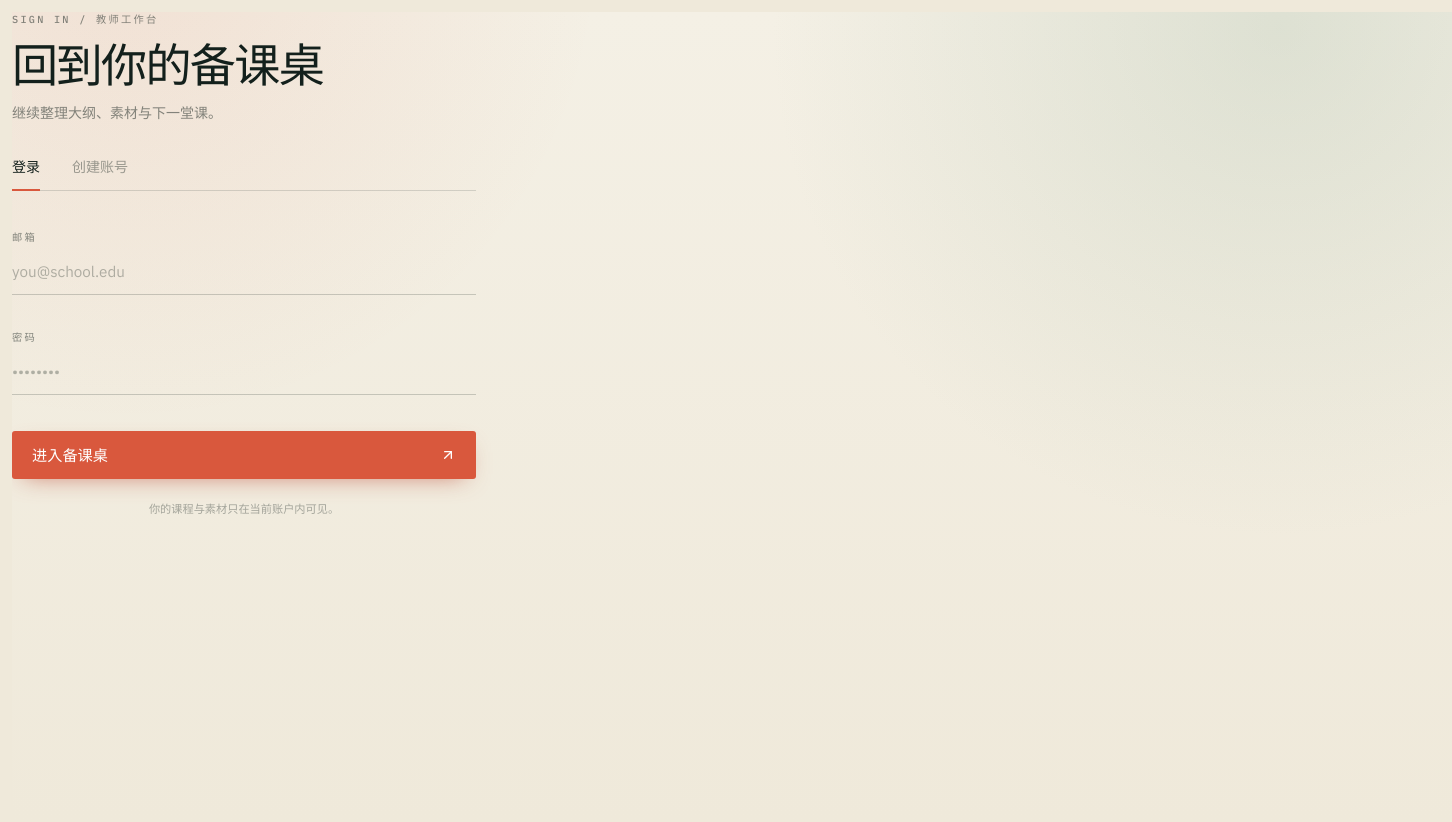
Scenario: LoginForm › enforces the registration password policy
The image size is (1452, 822).
Click the tab "创建账号" at (100, 174), box x1=72 y1=157 x2=128 y2=191
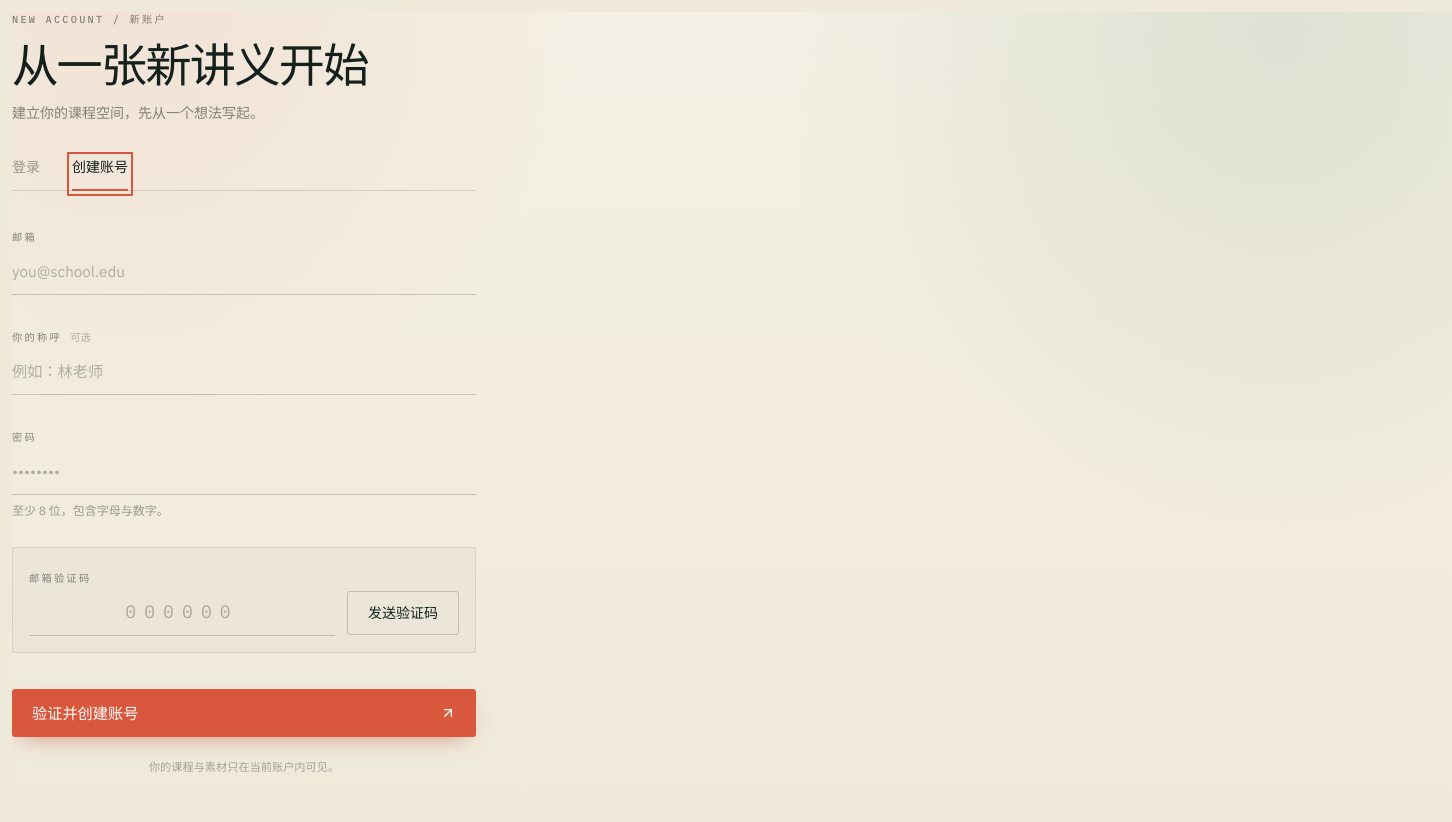
Type "teacher@example.com" into the field labelled "邮箱" at (244, 271), box x1=12 y1=247 x2=476 y2=295
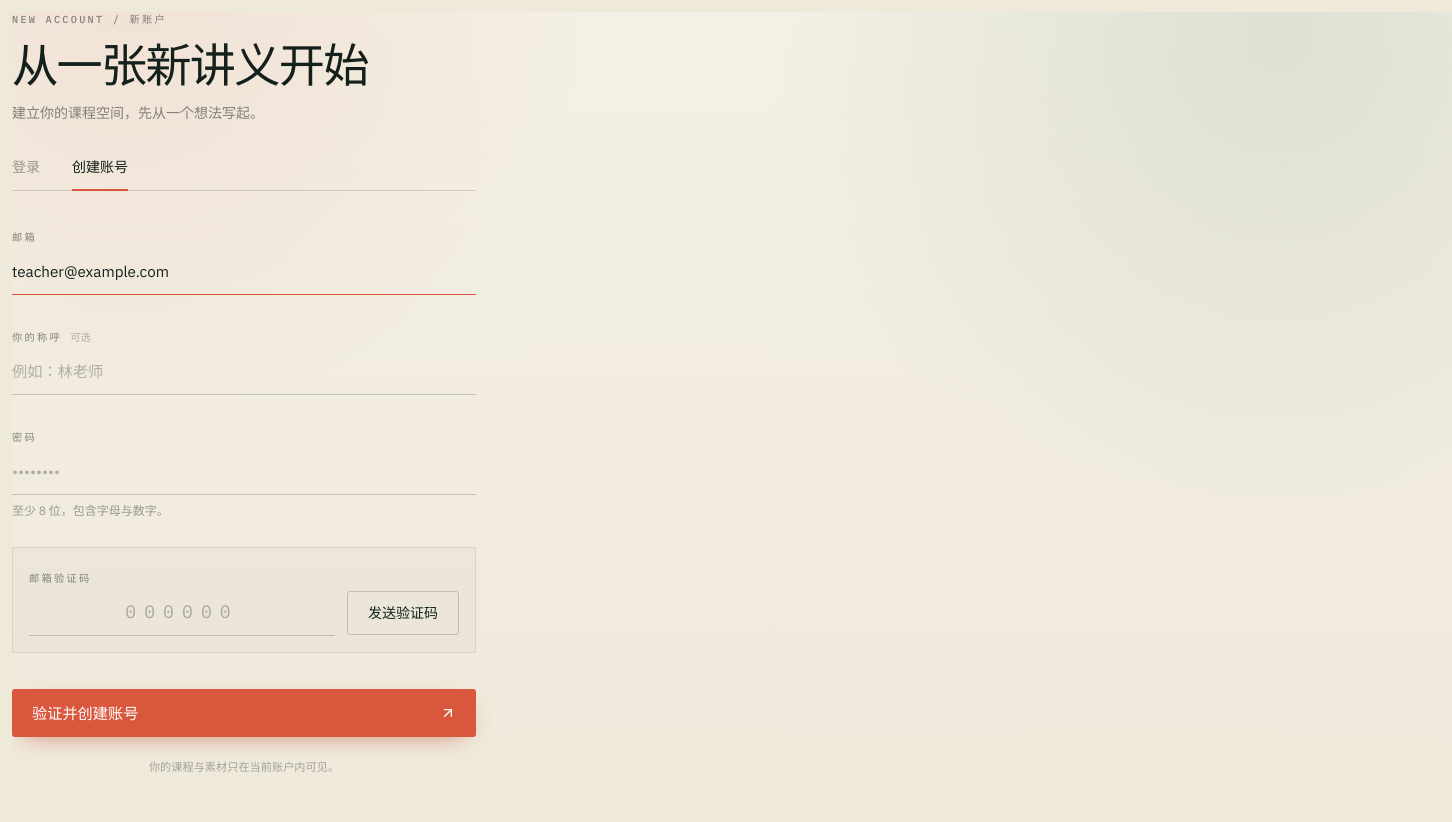
Type "onlyletters" into the password field labelled "密码" at (244, 471), box x1=12 y1=447 x2=476 y2=495
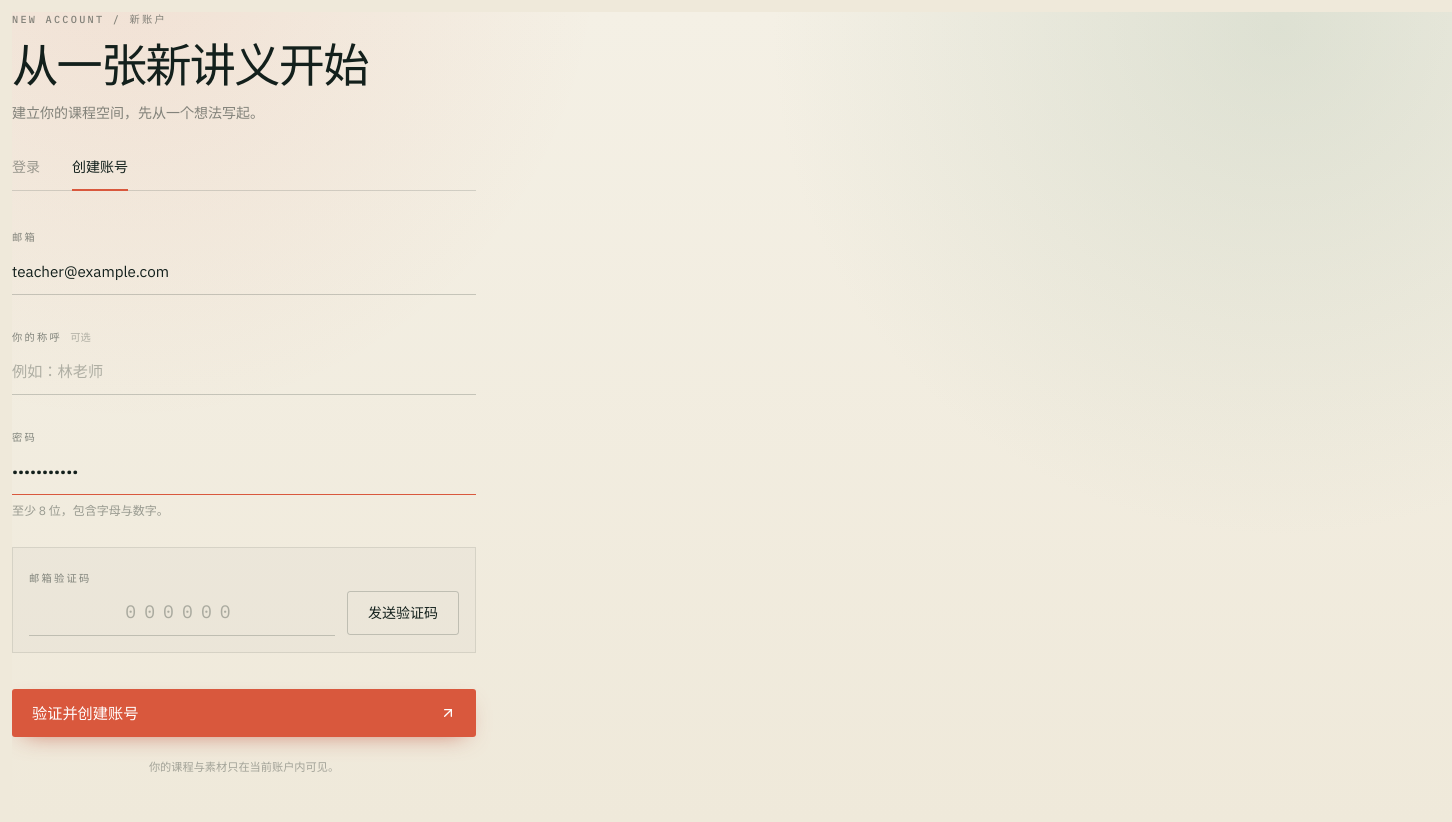
Click the button "验证并创建账号" at (85, 713), box x1=12 y1=689 x2=476 y2=737
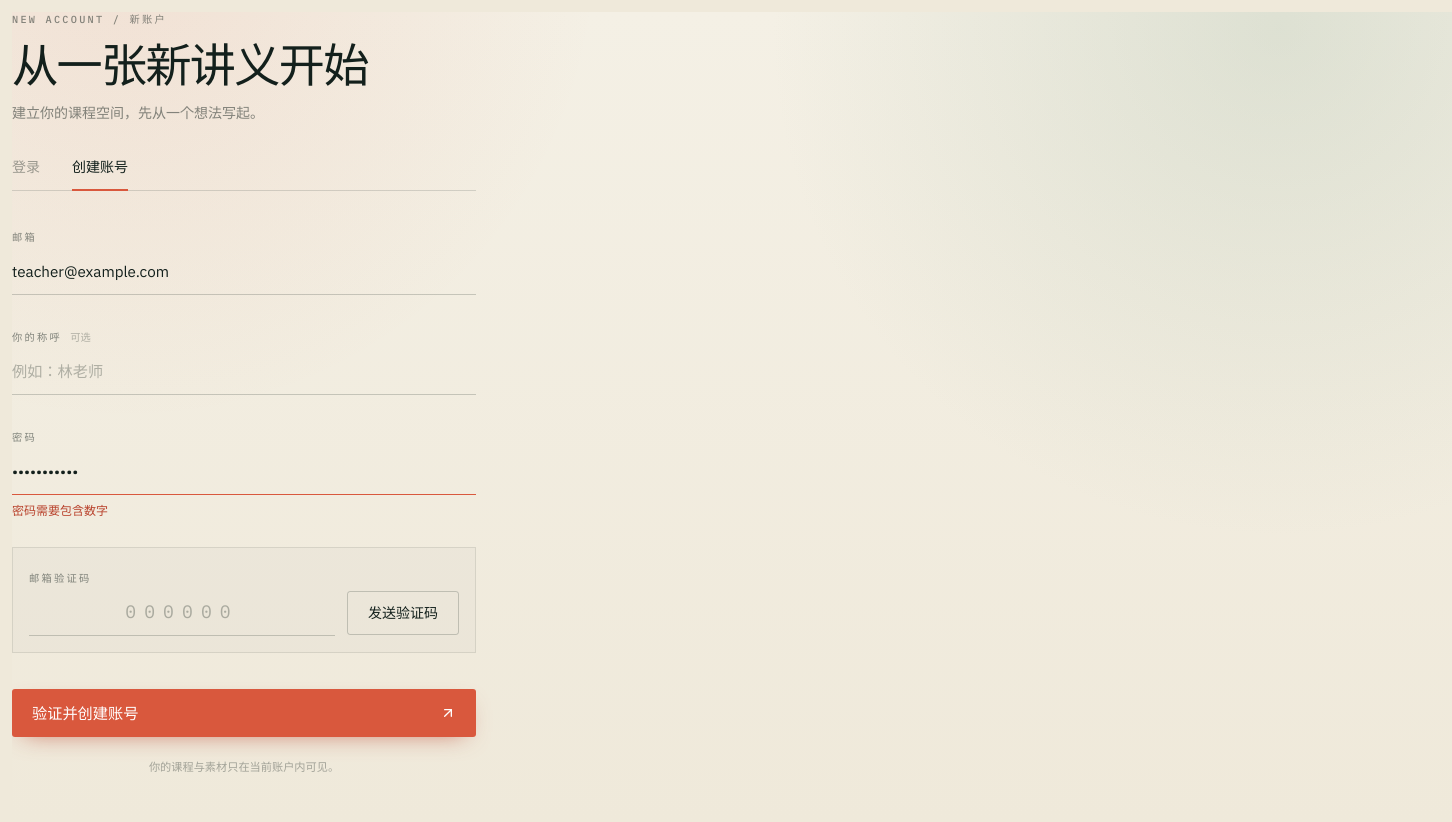
Now the text "密码需要包含数字" is shown, box x1=12 y1=503 x2=108 y2=518
